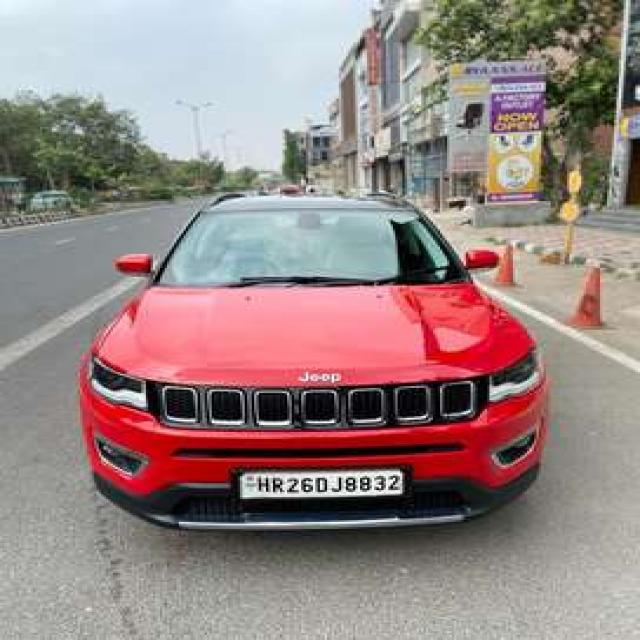license-plate: (238, 468, 402, 496)
